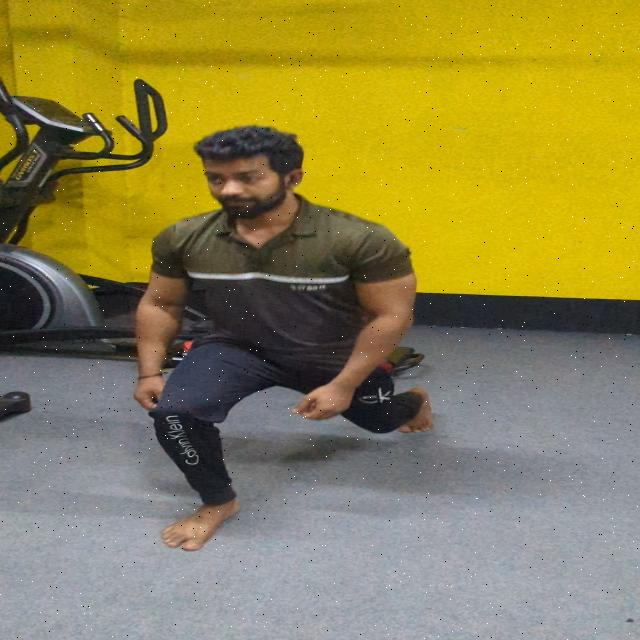Normal_Lunges: (0, 124, 640, 584)
